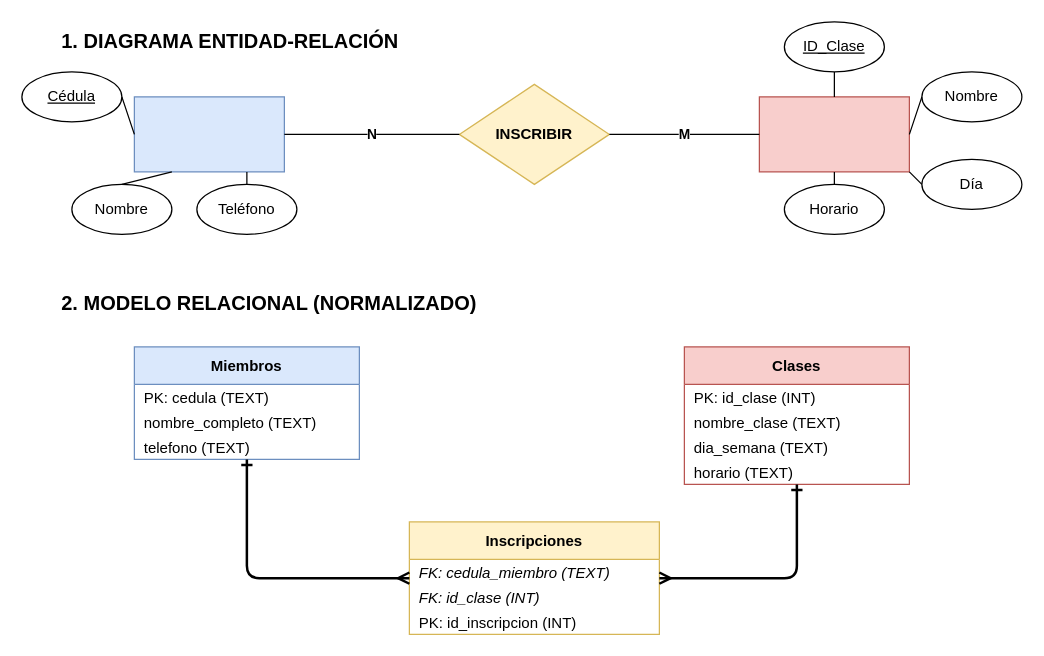
The diagram is 1044 pixels wide and 656 high, and some of its shapes have lost their labels. The shapes that lost their labels are listed below. From the top down, each one's centre as x and y in pixels, then its label:
point 208,134: MIEMBRO
point 833,134: CLASE
